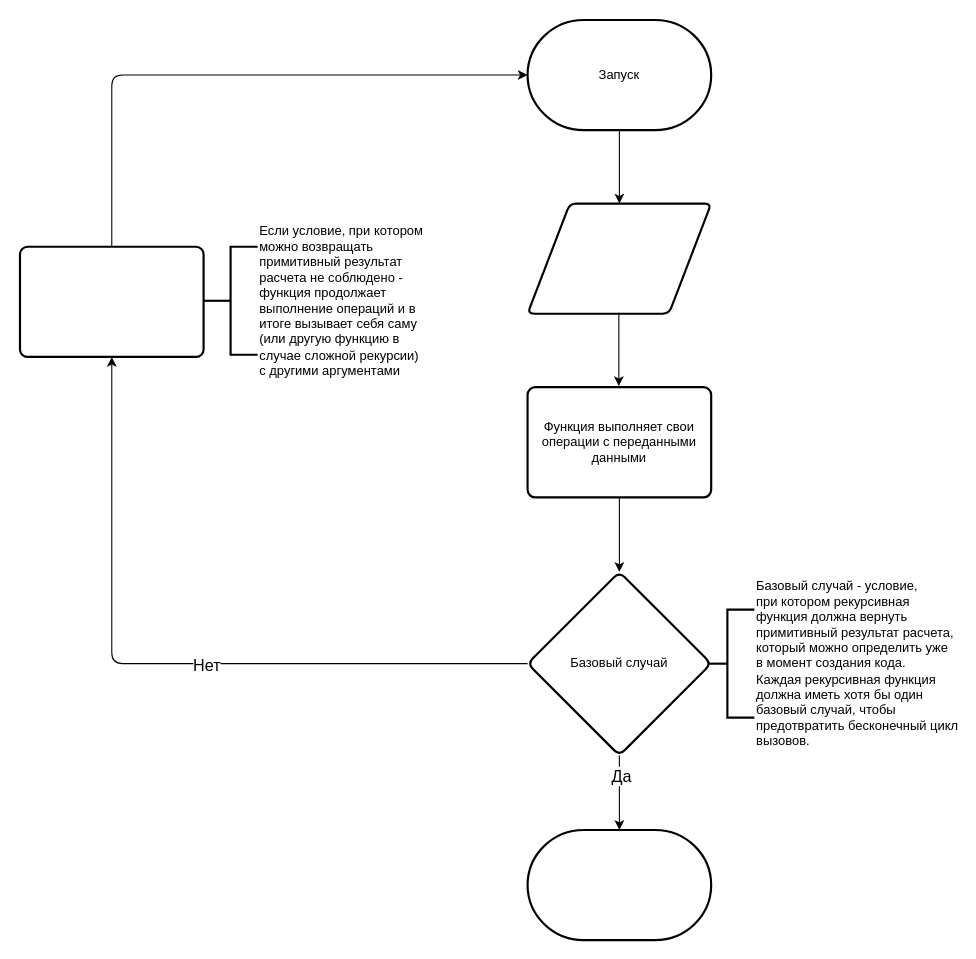
The diagram is 976 pixels wide and 959 high, and some of its shapes have lost their labels. The centre of each missing label's shape, as x and y in pixels:
"Данные" goes at pixel 619 258.
"Останов" goes at pixel 619 884.
"Функция продолжает выполнять свои операции, рассчитывает новые аргументы" goes at pixel 111 301.
